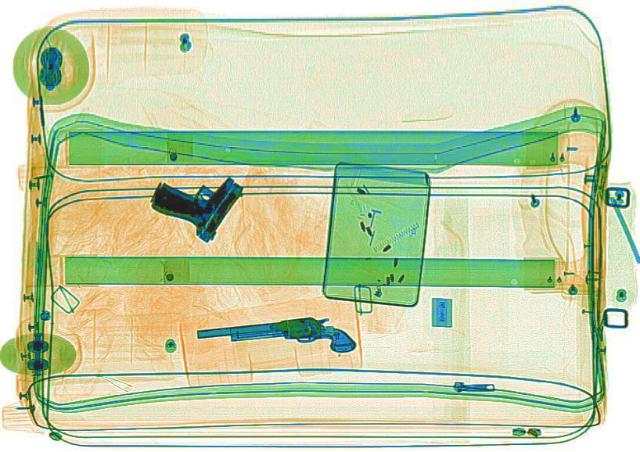Gun: (130, 160, 246, 240), (190, 311, 356, 364)
